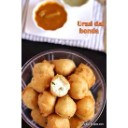bonda: (68, 76, 88, 100), (34, 64, 54, 83), (38, 92, 54, 115), (53, 59, 74, 76), (79, 99, 95, 119), (46, 115, 70, 128), (59, 98, 75, 117), (24, 89, 38, 108)
